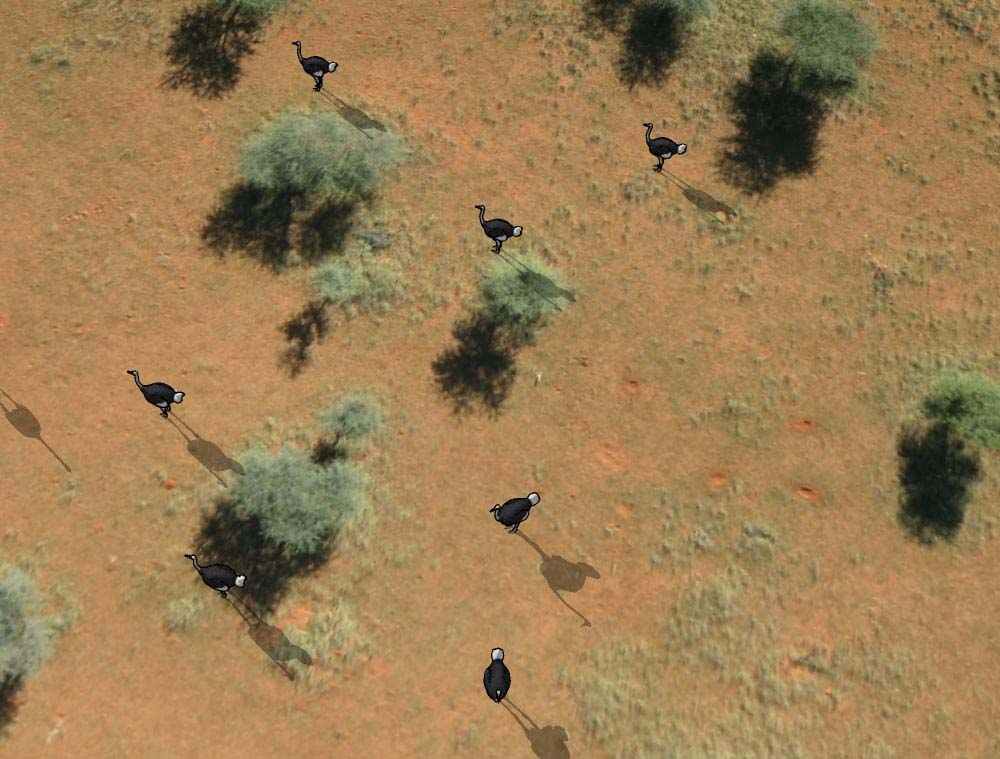ostrich: (185, 547, 252, 607), (124, 365, 187, 417), (476, 198, 526, 260), (292, 37, 339, 95), (640, 120, 685, 178), (490, 490, 542, 535), (481, 646, 513, 706)
